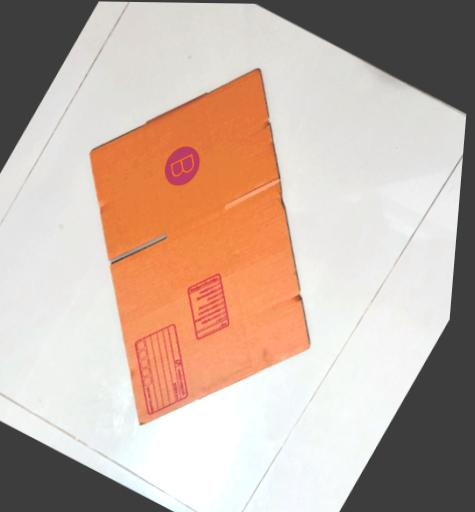box: (0, 16, 434, 480)
class0: (101, 313, 221, 428), (165, 265, 251, 348), (157, 142, 205, 192)
